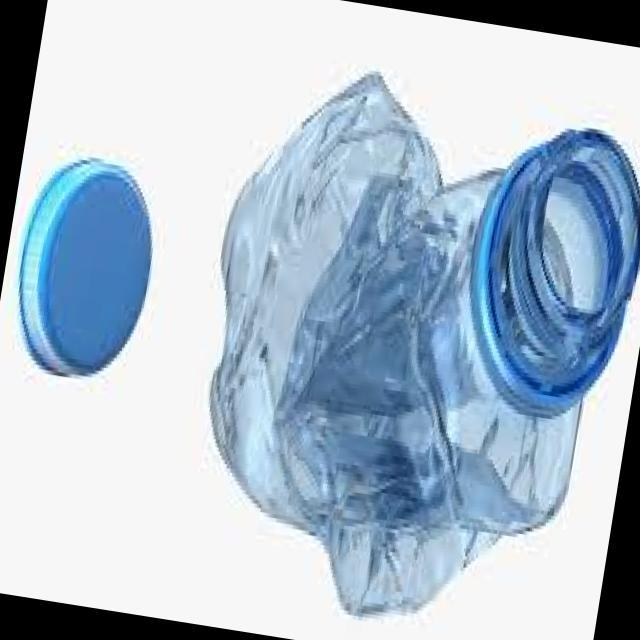defected: (162, 41, 640, 640)
